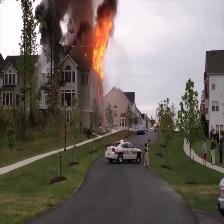fire: (93, 16, 113, 70)
smoke: (38, 0, 85, 51), (99, 0, 115, 13)
